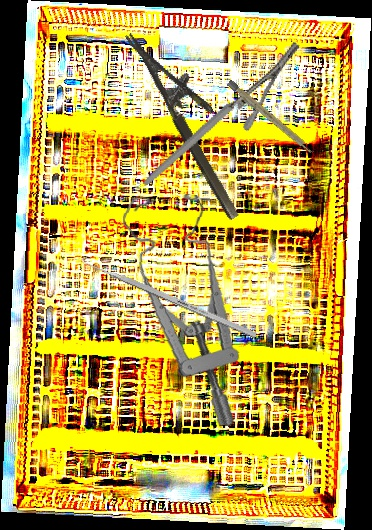Needle Holder: (115, 40, 328, 186), (125, 16, 264, 222)
Pusher: (71, 254, 258, 339)
Scalpel Handle: (226, 79, 316, 156)
Speculum: (102, 187, 258, 427)
